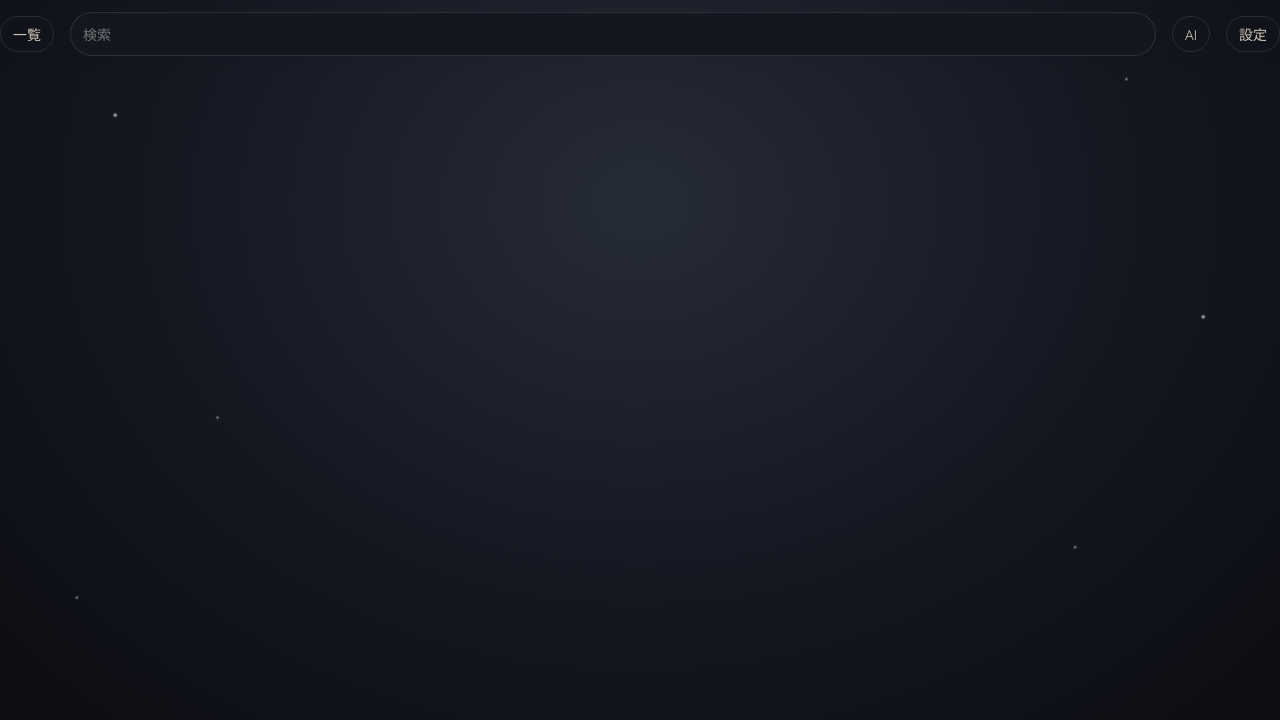
Scenario: AppHeader › 設定を開くとテーマのボタンが出る
What coordinates should you click on to do the following:
click the button "設定"
I would click on:
 (1253, 34)
Its box is [1226,16,1279,52].
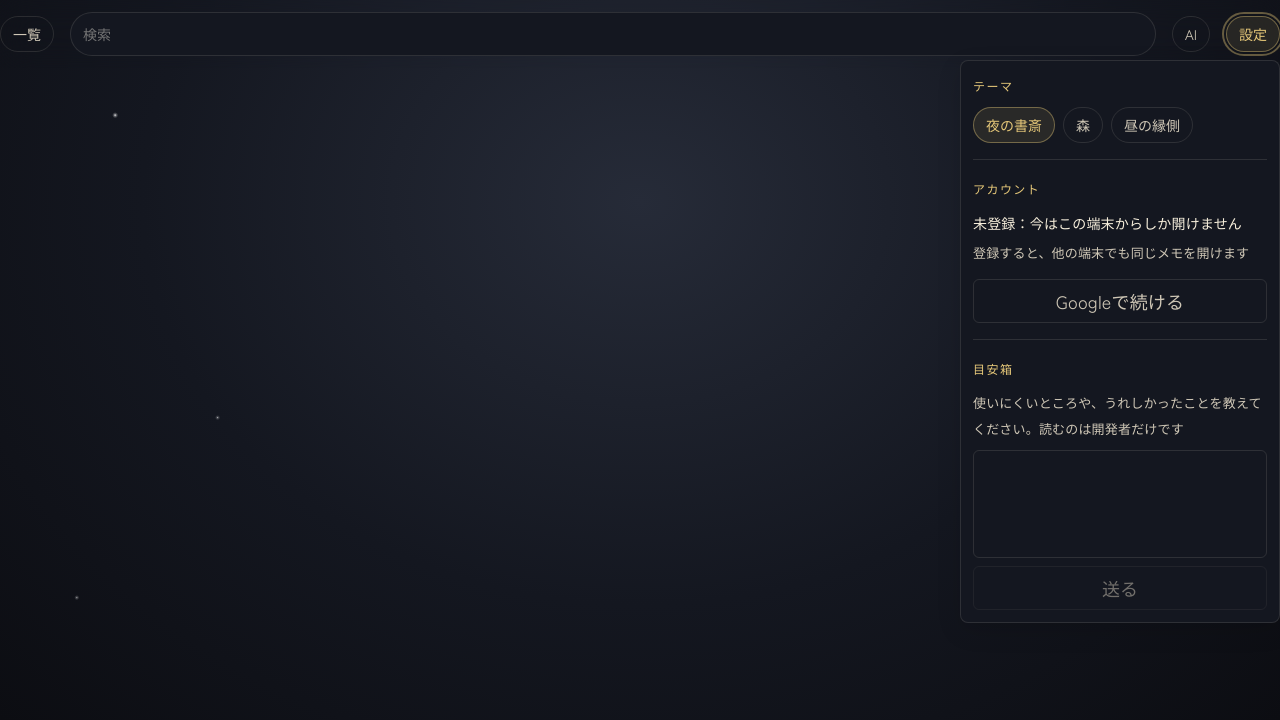
expect the button "森" is shown: met, box [1063,107,1103,143]
